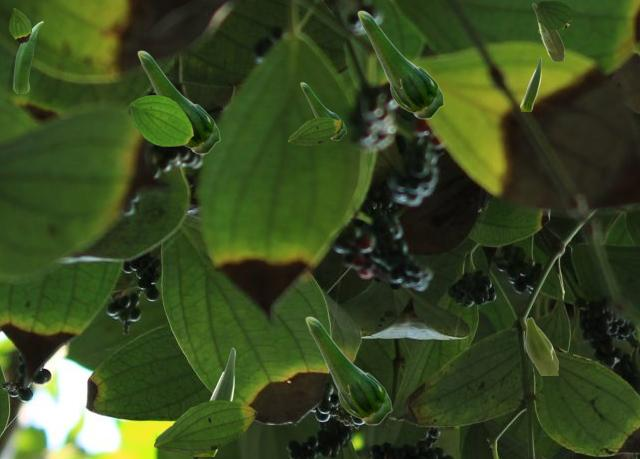okra: (357, 10, 443, 118), (305, 316, 391, 424), (137, 50, 219, 153), (193, 347, 234, 455), (300, 82, 345, 139), (13, 21, 42, 92), (525, 317, 557, 374), (532, 3, 563, 60), (520, 57, 540, 110)
